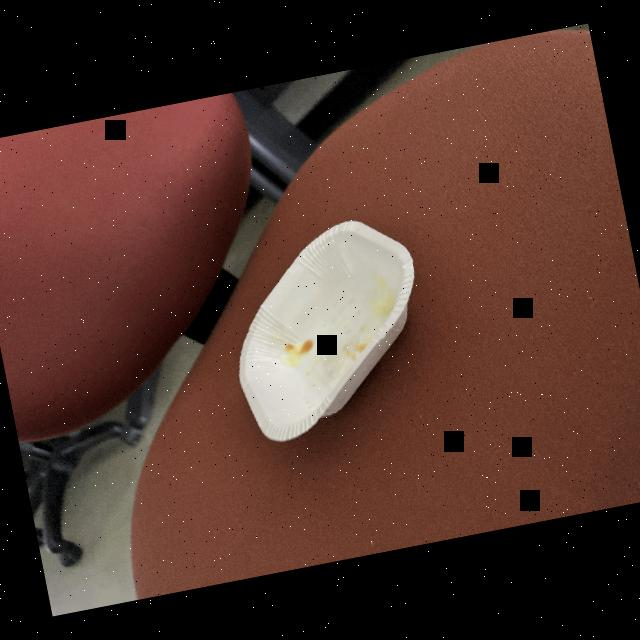cardboard_bowl: (210, 200, 452, 458)
